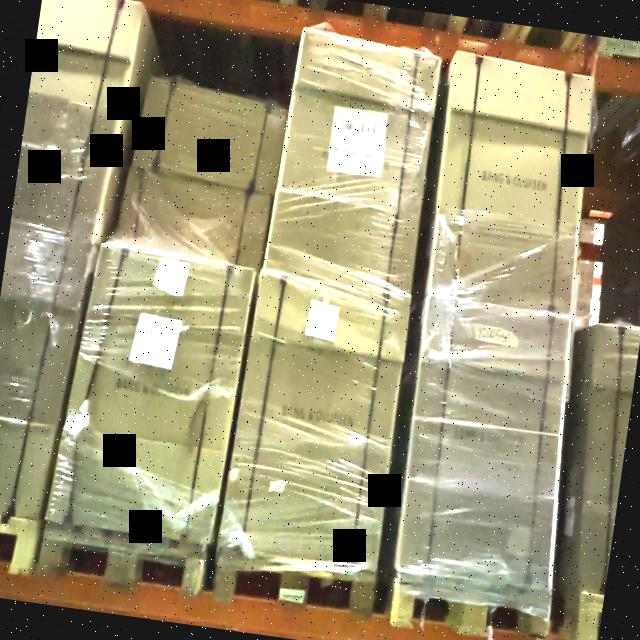box: (55, 258, 256, 558), (388, 305, 582, 596), (220, 278, 412, 572), (419, 48, 599, 320), (271, 29, 436, 298), (10, 0, 141, 237), (0, 232, 89, 534), (139, 66, 287, 186)
